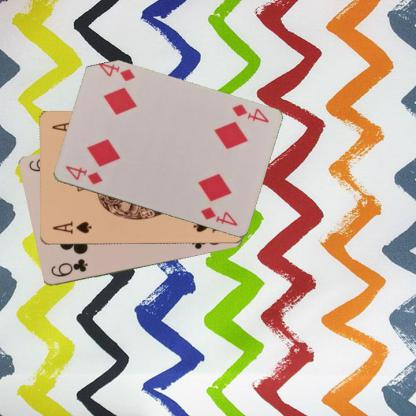4d: (63, 163, 104, 186), (229, 102, 270, 124)
6c: (48, 256, 89, 278)
As: (50, 219, 92, 236)
